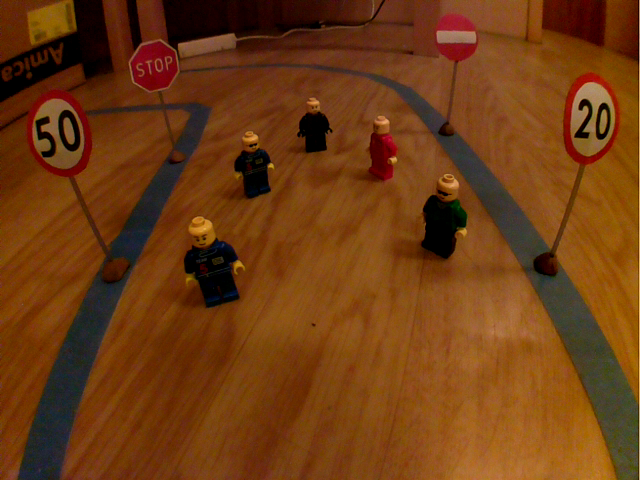Ograniczenie 20: (559, 69, 626, 167)
Ograniczenie 50: (24, 86, 97, 181)
Postac LEGO: (178, 212, 248, 314), (416, 170, 473, 266), (229, 128, 278, 202), (362, 113, 402, 185), (294, 95, 336, 157)
Stop: (122, 36, 186, 95)
Zakaz: (432, 12, 481, 64)
